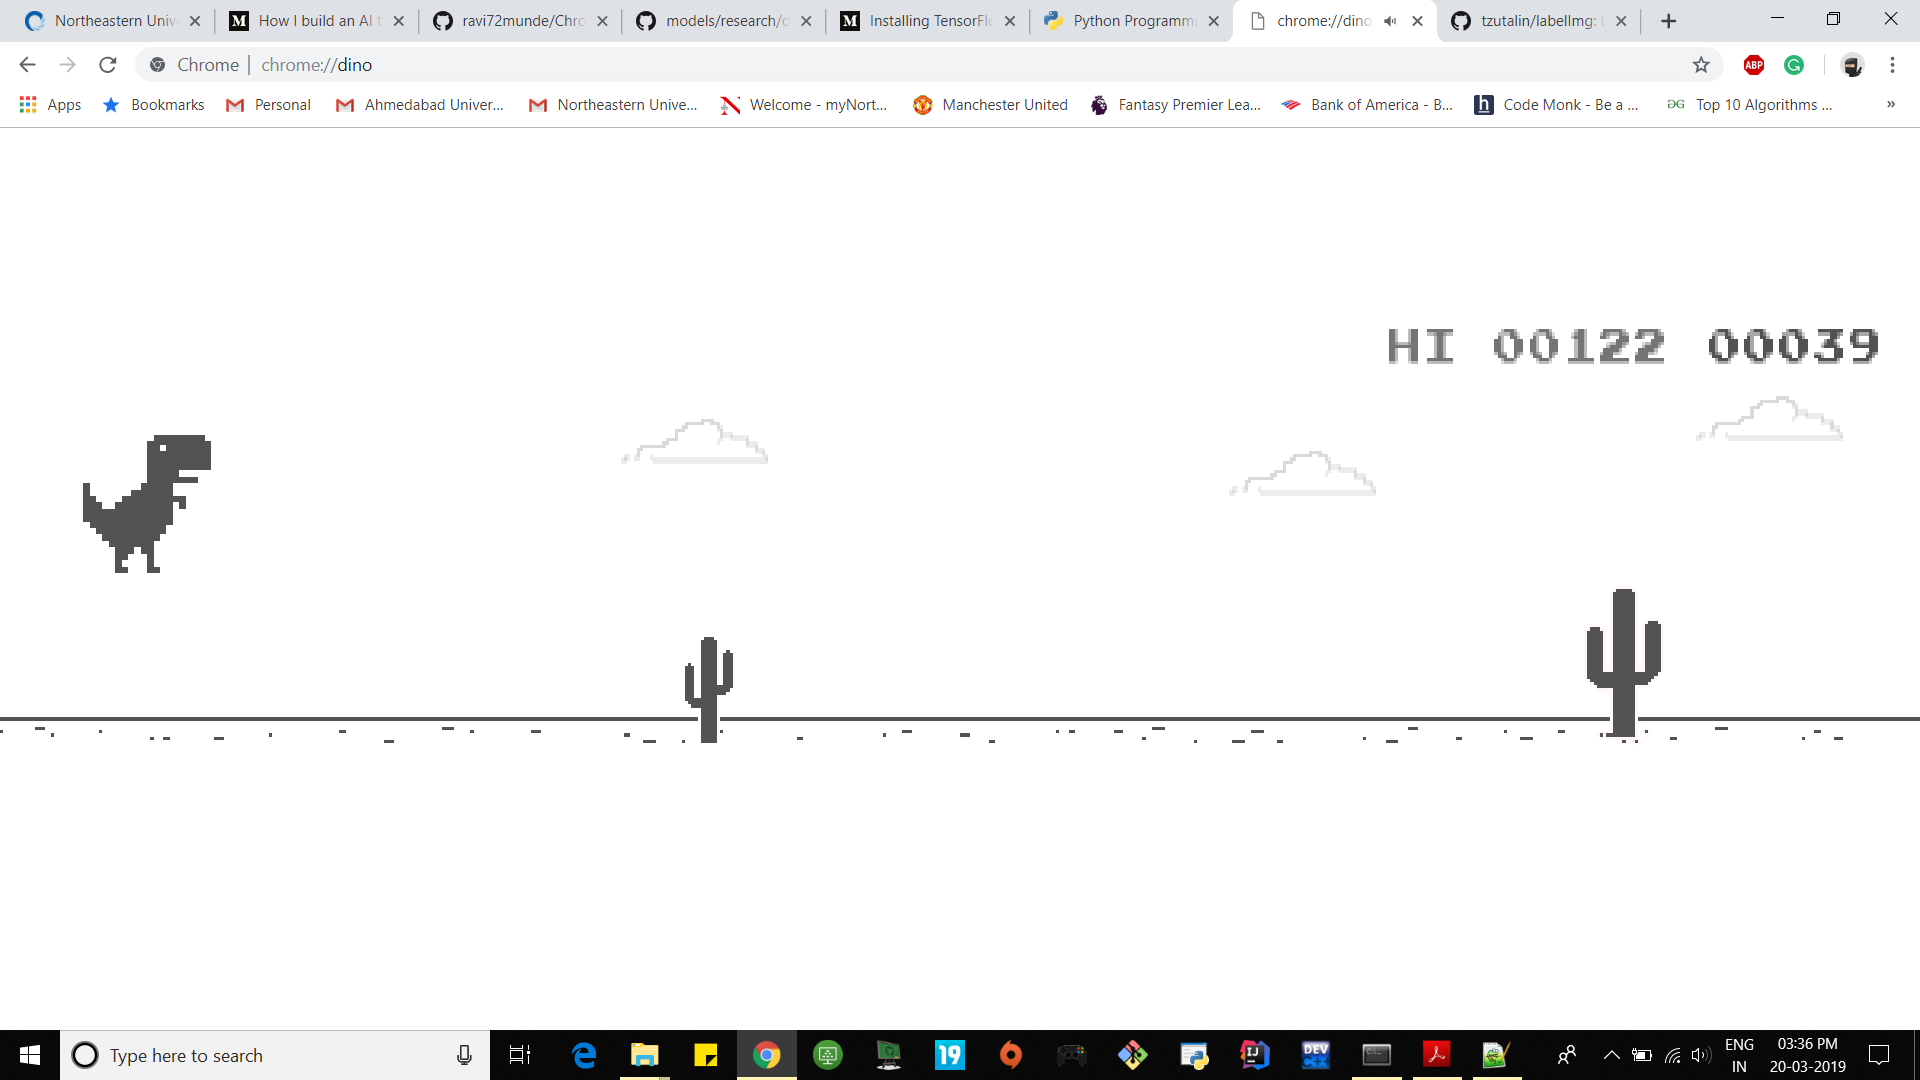cactus-1: (1582, 588, 1662, 733)
cactus-small: (683, 633, 735, 742)
dino: (79, 433, 214, 576)
